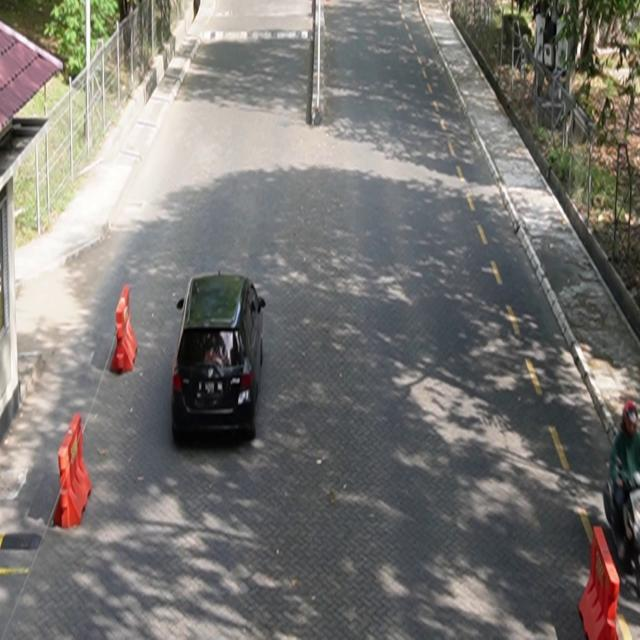car: (172, 270, 267, 443)
